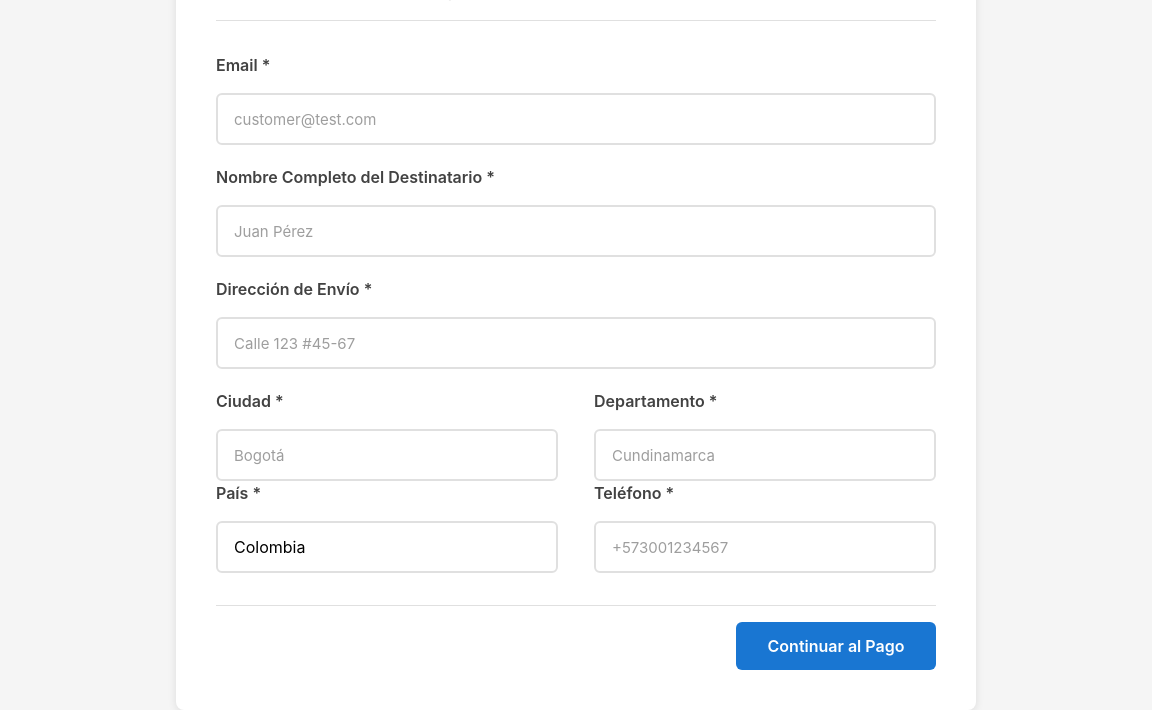
Scenario: DeliveryForm Component › Validaciones de campos requeridos › debe mostrar error cuando el email está vacío
(page scrolled)
Click the button "Continuar al Pago". click: (836, 646)
box: [736,622,936,670]
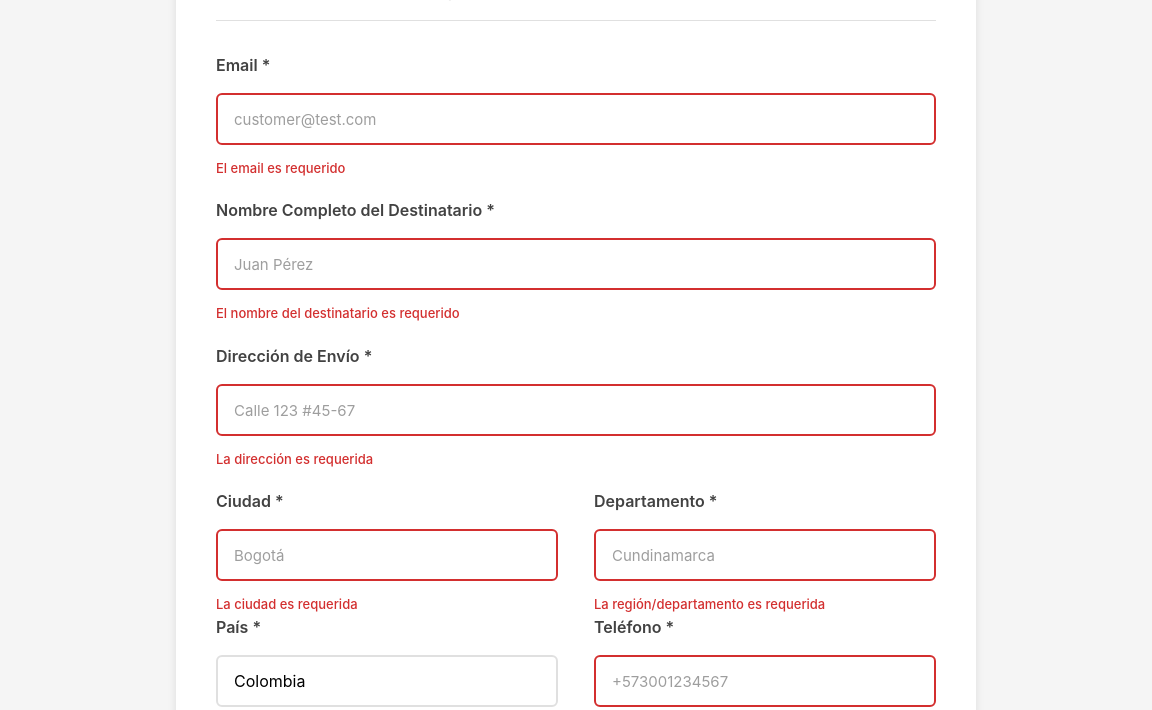
Expected: the text "El email es requerido" is shown, [216,160,346,176]
